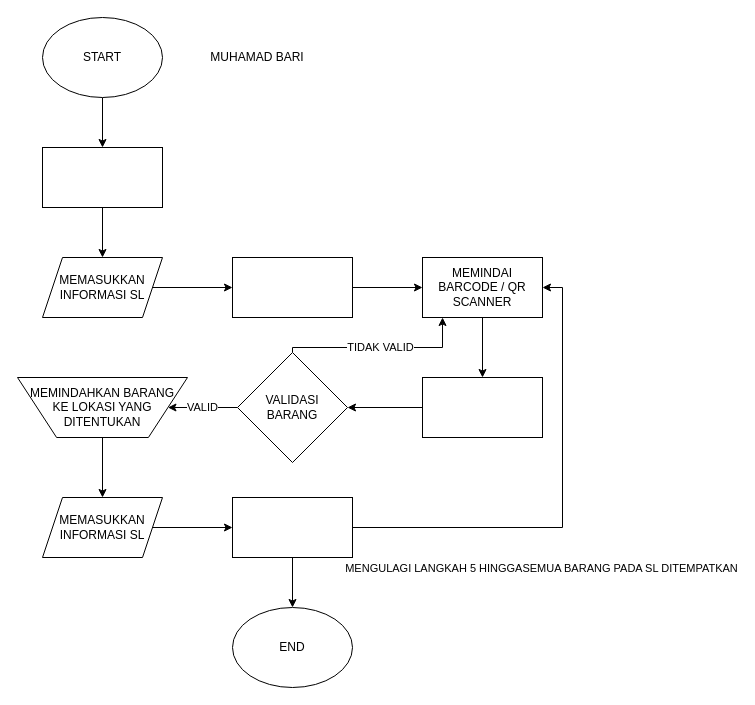
The diagram is 755 pixels wide and 705 high, and some of its shapes have lost their labels. The centre of each missing label's shape, as x and y in pixels:
MEMBUKA APP BARCODE / QR SCANNER: pixel 292 287
MENERIMA SHIPPING LIST: pixel 102 177
SISTEM MEMPERBARUI STOK BARANG: pixel 292 527
SISTEM MENGENALI BARCODE / QR SCANNER: pixel 482 407
